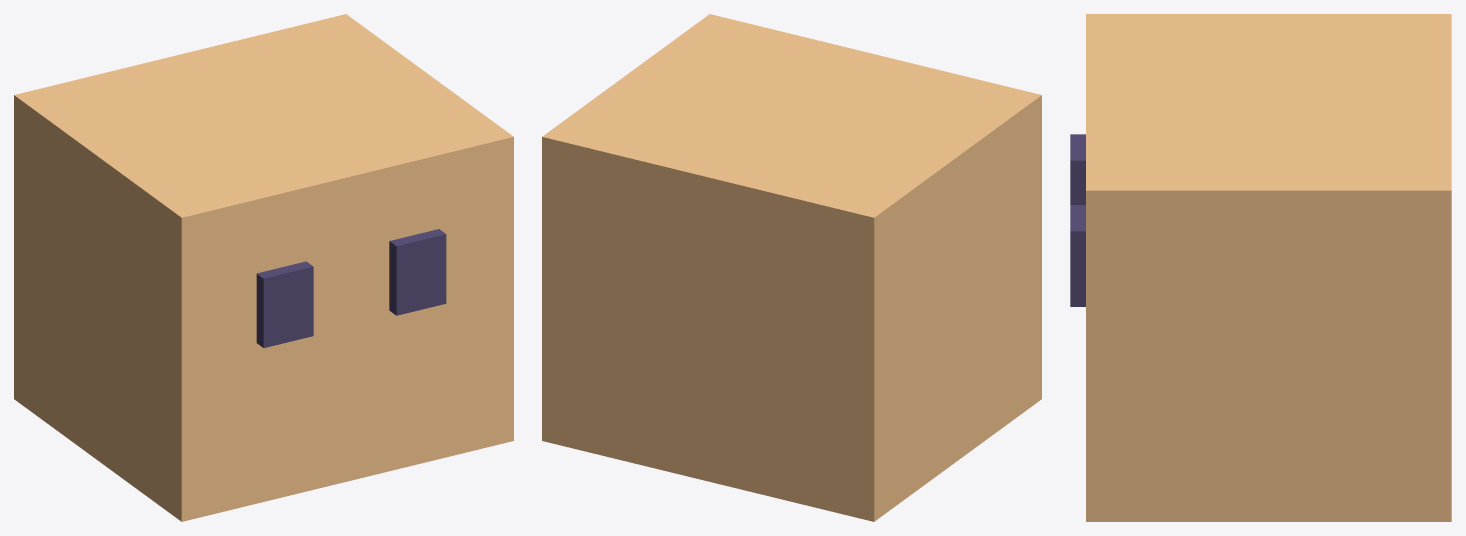
The model's file is test-dummy.glb.
The picture shows the model from 3 angles, left to right: view 1: azimuth 30°, elevation 25°; view 2: azimuth 150°, elevation 25°; view 3: azimuth 270°, elevation 25°; orthographic projection. The views are drawn at different scales.
Parts seen in each view (by area): view 1: Body, EyeR, EyeL; view 2: Body; view 3: Body, EyeR, EyeL.
Boxes of the visible parts, x1,y1,x2,y2 form: Body: [14, 14, 513, 521]; EyeR: [389, 229, 446, 315]; EyeL: [256, 261, 313, 347]; Body: [542, 14, 1041, 521]; Body: [1086, 14, 1451, 521]; EyeR: [1070, 205, 1085, 306]; EyeL: [1070, 134, 1085, 204].
Bounding box in the file's own units: 0.8 × 0.7 × 0.73.
